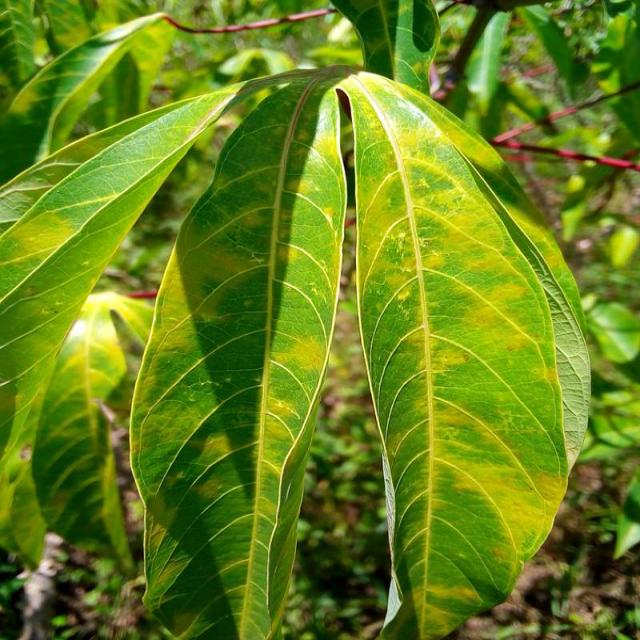cassava leaf: (338, 68, 592, 638), (129, 66, 350, 638)
